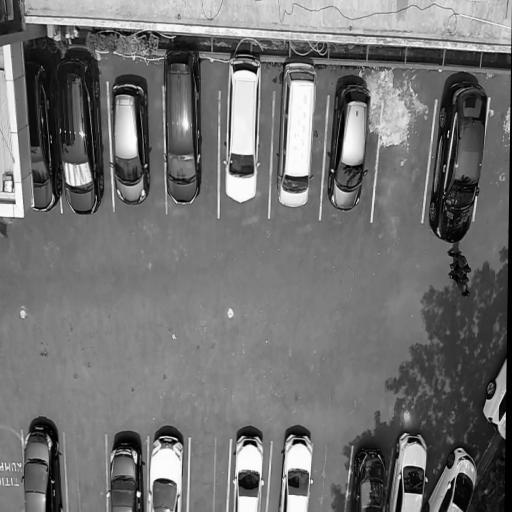Car: (426, 76, 492, 244), (52, 40, 106, 225), (156, 40, 207, 213), (19, 36, 62, 218), (221, 48, 267, 218), (274, 53, 321, 212), (105, 77, 156, 216), (327, 80, 373, 220), (19, 415, 65, 512), (389, 417, 432, 512), (145, 422, 189, 512), (427, 444, 482, 512), (103, 424, 145, 512), (277, 418, 315, 512), (229, 427, 268, 512), (478, 337, 507, 449), (351, 432, 387, 512)
Space Available: (378, 90, 426, 229), (64, 430, 107, 512), (188, 438, 230, 512), (315, 441, 351, 512), (0, 428, 25, 512)
